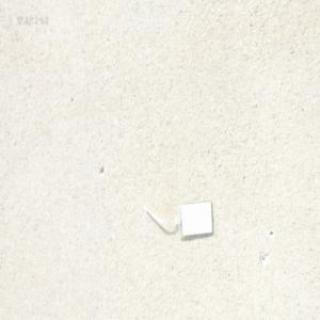LuggageTagtrack_idkeyframe: (136, 194, 212, 238)
